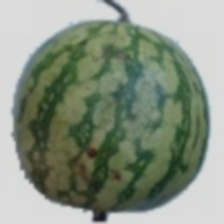watermelon: (17, 37, 216, 224)
